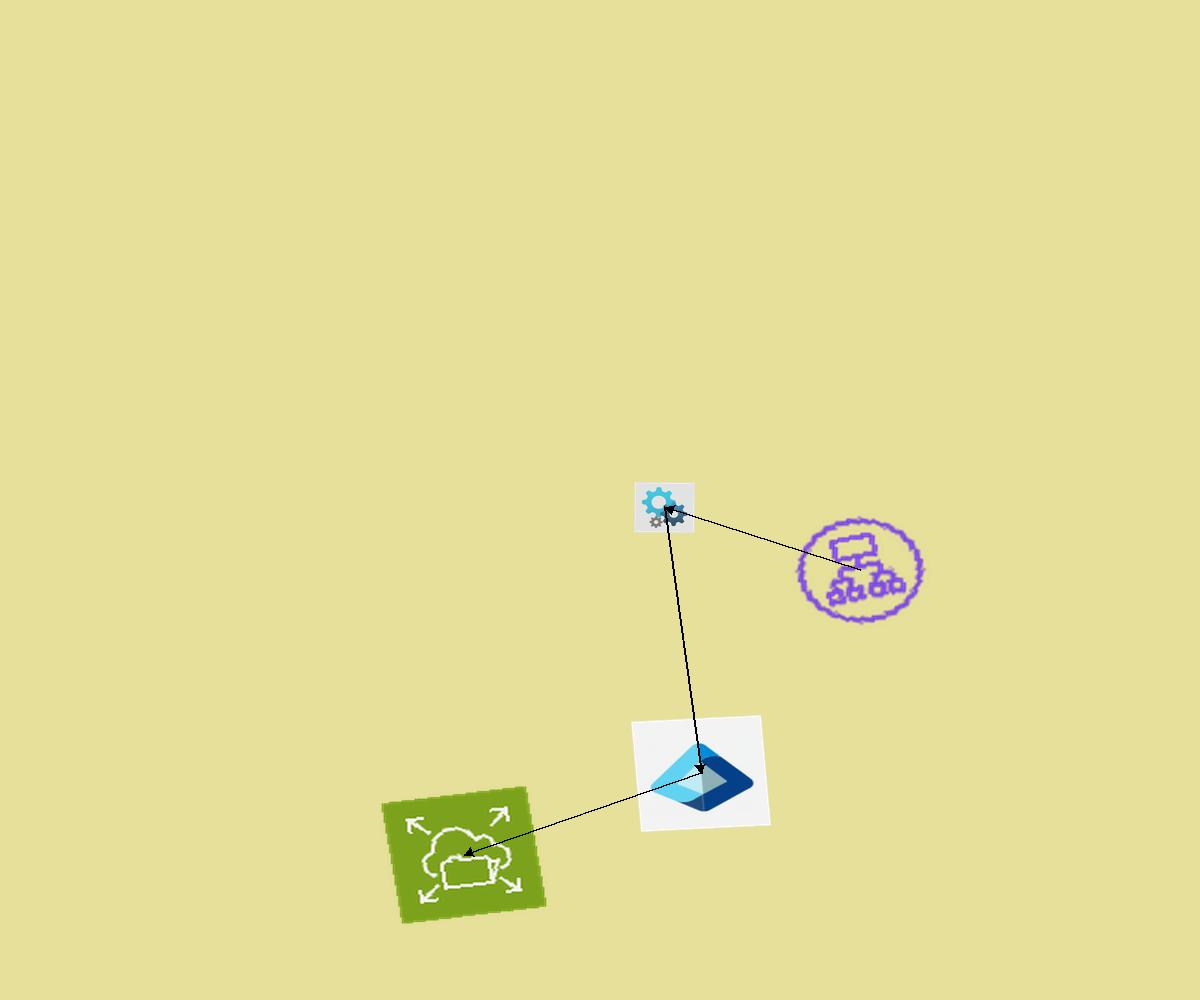AWS-EFS: (380, 785, 548, 925)
AWS-Res_Elastic-Load-Balancing_Application-Load-Balancer: (778, 502, 943, 639)
Azure_api: (634, 482, 695, 533)
Azure_microsoft_entra: (631, 715, 771, 832)
